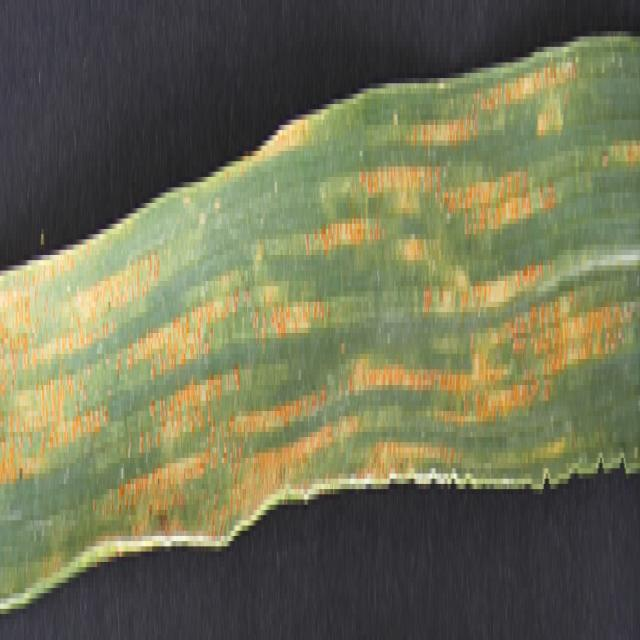leaf rust: (1, 31, 628, 614)
